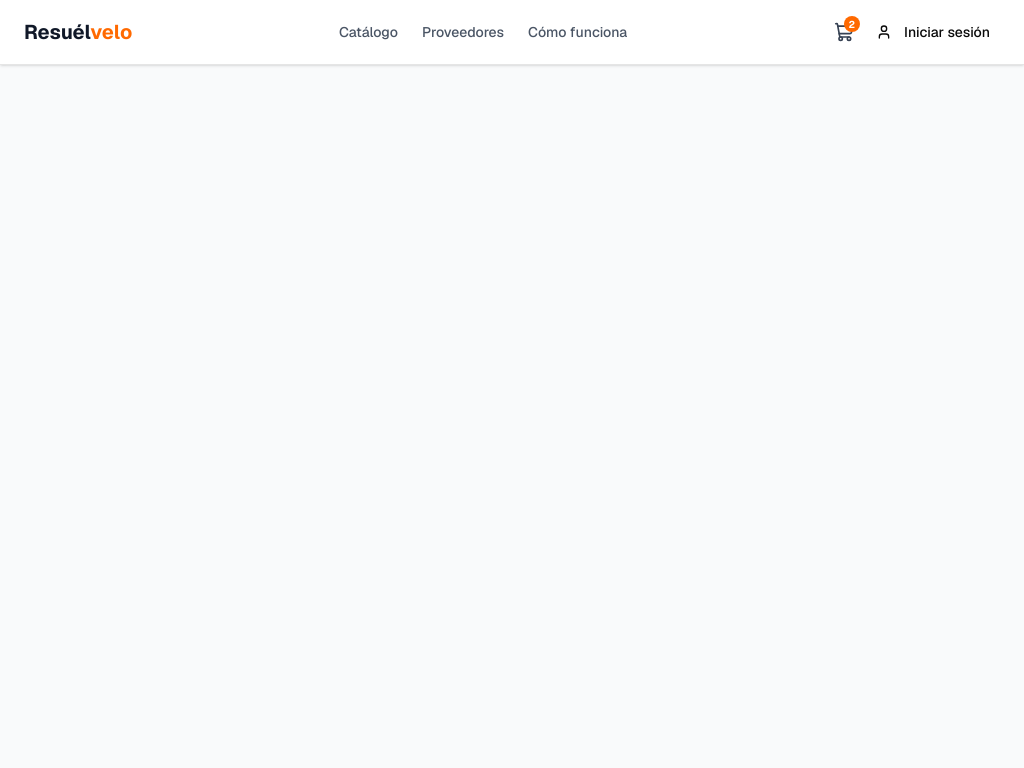
Test: NavbarClient — carrito en móvil › muestra el número de productos en el botón Carrito y su contenido en el drawer
The image size is (1024, 768).
Check: the text "2" is shown, box [844,16,860,32]
Click the button named "Carrito": (844, 32) [834,22,854,42]
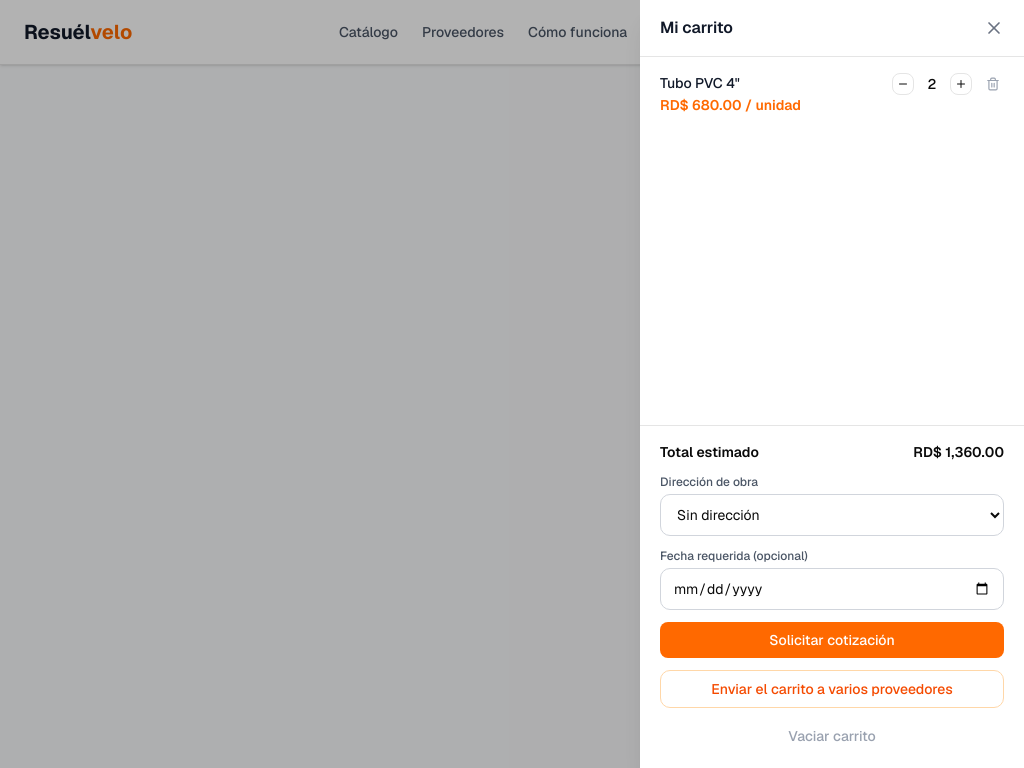
Check: the heading "Mi carrito" is shown, box [660,16,733,40]
Check: the text "Tubo PVC 4\"" is shown, box [660,74,740,92]
Check: the text "RD$ 1,360.00" is shown, box [913,442,1004,462]
